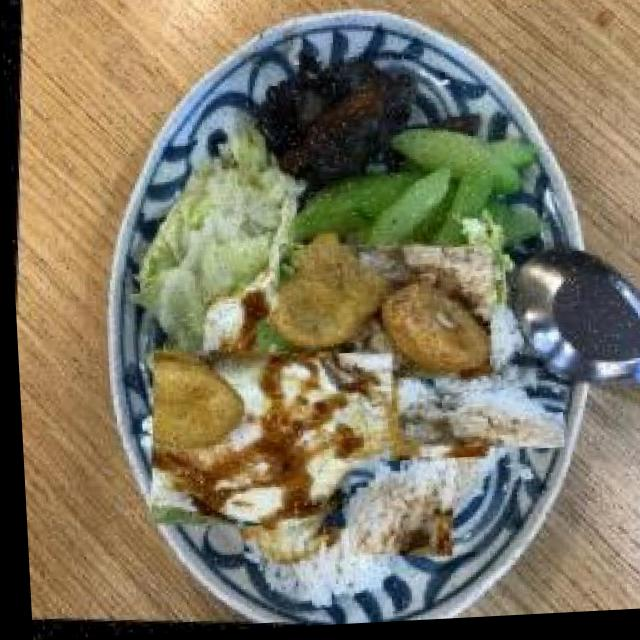chicken_nuggets: (245, 231, 493, 478)
chinese_cabbage: (139, 129, 287, 333)
fried_eggs: (152, 325, 381, 557)
rice: (410, 354, 543, 484), (337, 458, 452, 565)
